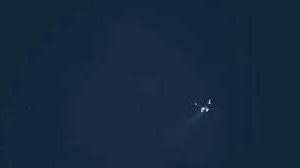Plane: (171, 88, 232, 127)
